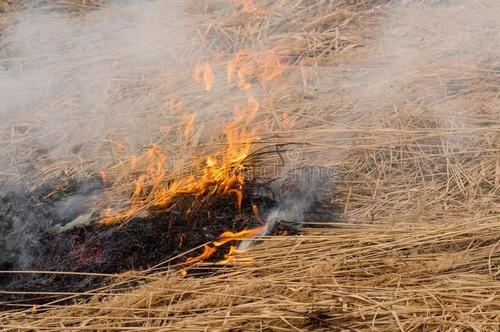fire: (96, 41, 280, 273)
